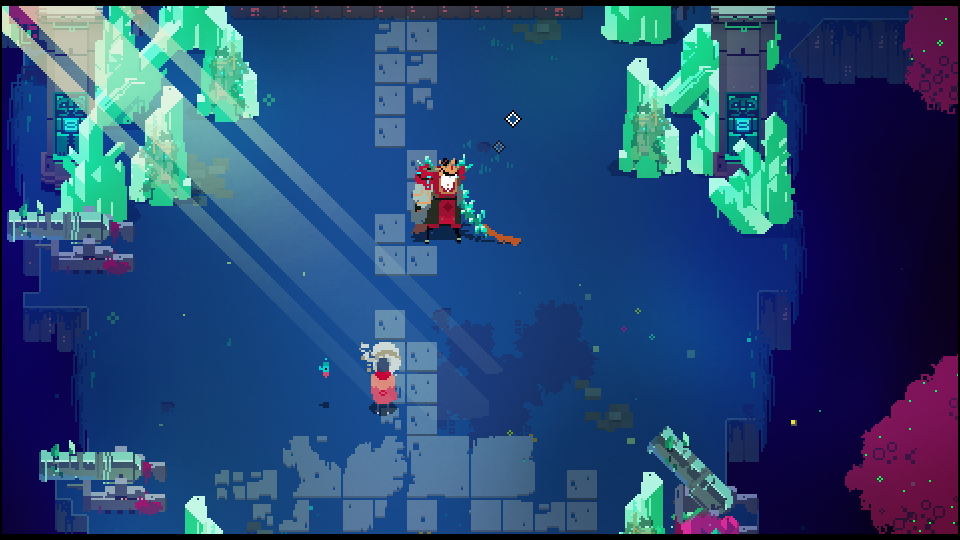hanged_man: (405, 149, 509, 251)
player: (368, 357, 402, 420)
